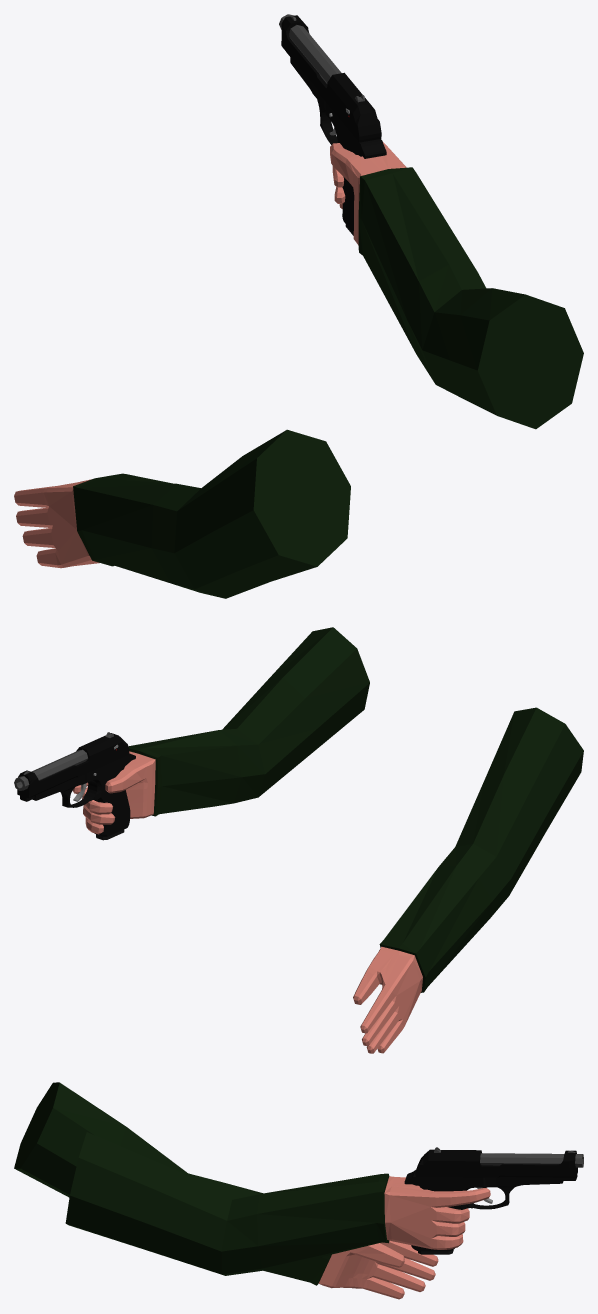
File: vm_usp.glb
3 renders of one model, top to bottom at view 1: azimuth 30°, elevation 25°; view 2: azimuth 150°, elevation 25°; view 3: azimuth 270°, elevation 25°, orthographic. The views are drawn at different scales.
Parts seen in each view (by area): view 1: arms, gun; view 2: arms, gun; view 3: arms, gun.
Boxes of the visible parts, box(x1,y1,x2,y2) form: arms: box(14, 142, 583, 598); gun: box(279, 14, 386, 235); arms: box(72, 627, 583, 1053); gun: box(14, 732, 135, 840); arms: box(14, 1082, 490, 1299); gun: box(404, 1147, 583, 1254).
Size of the model in its own units: 1.23 by 1.08 by 1.99.
